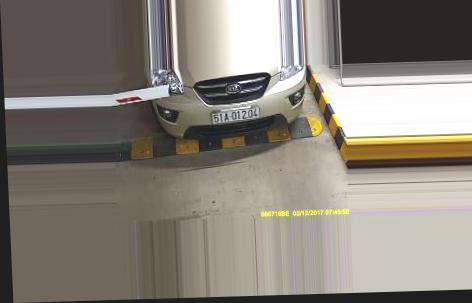License_Plate: (209, 105, 262, 126)
